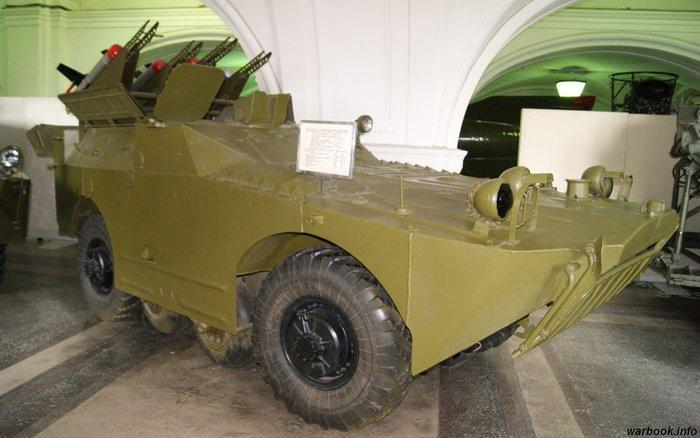MIL_IFV: (28, 19, 680, 429)
